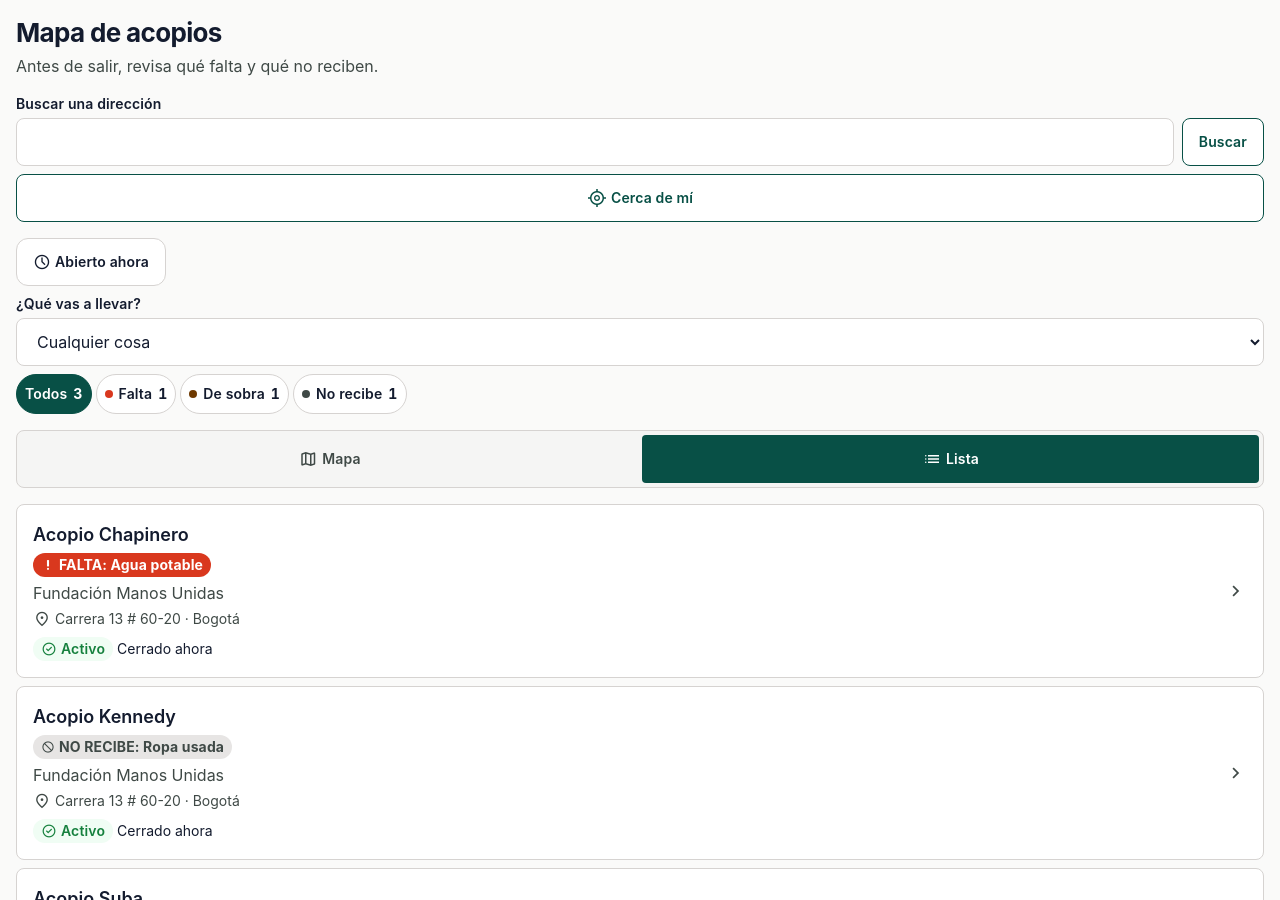
it: lo que vas a llevar apaga los que no lo reciben y resume la categoría
Select "Ropa usada" in the dropdown labelled "¿Qué vas a llevar?" at (640, 342), box x1=16 y1=318 x2=1264 y2=366
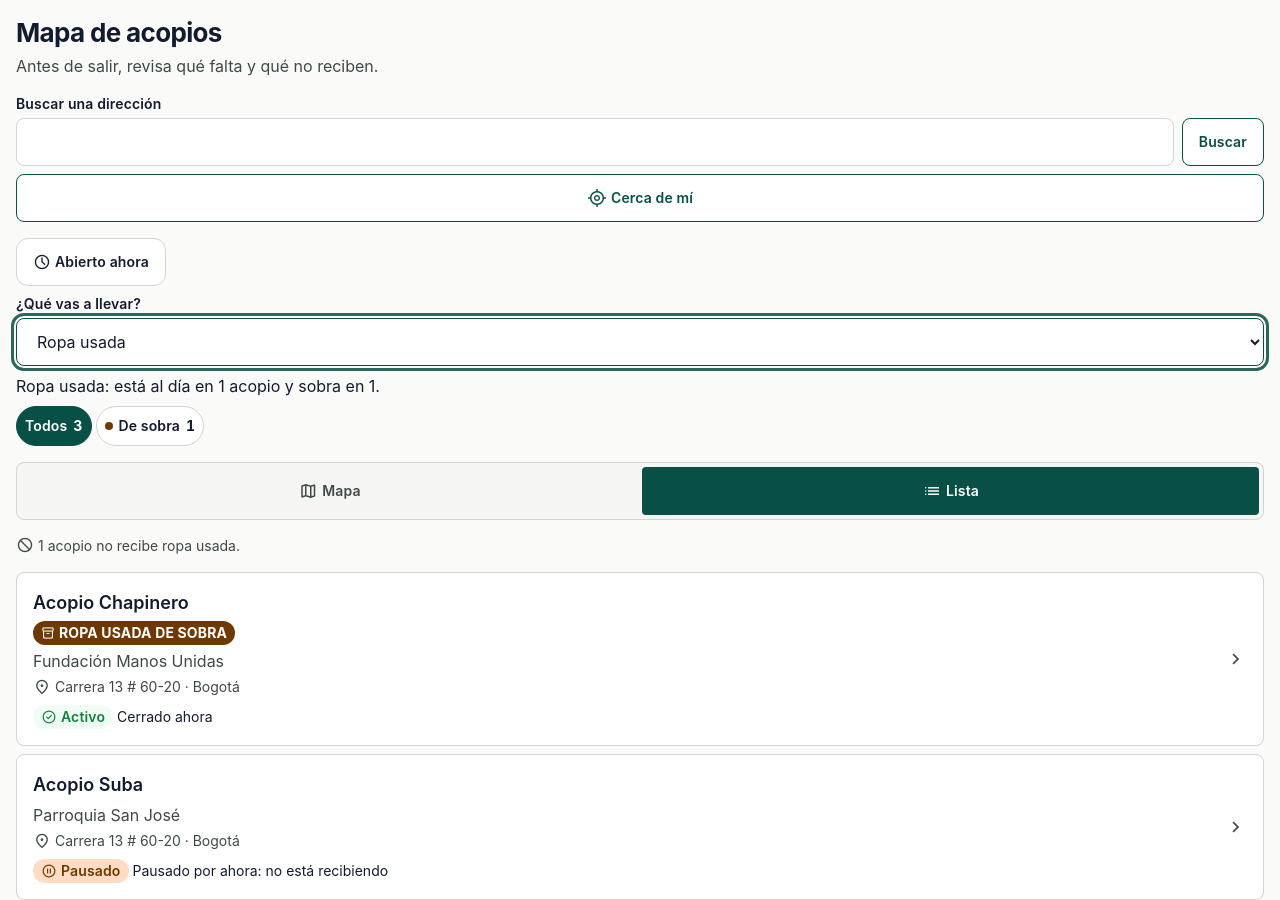
Expected: the link "Acopio Suba" does not show "No recibe", x1=16 y1=754 x2=1264 y2=899
Result: the text "Ropa usada: está al día en 1 acopio y sobra en 1." is shown at x1=16 y1=376 x2=380 y2=396
Result: the link "Acopio Chapinero" shows "ROPA USADA DE SOBRA" at x1=16 y1=572 x2=1264 y2=746
